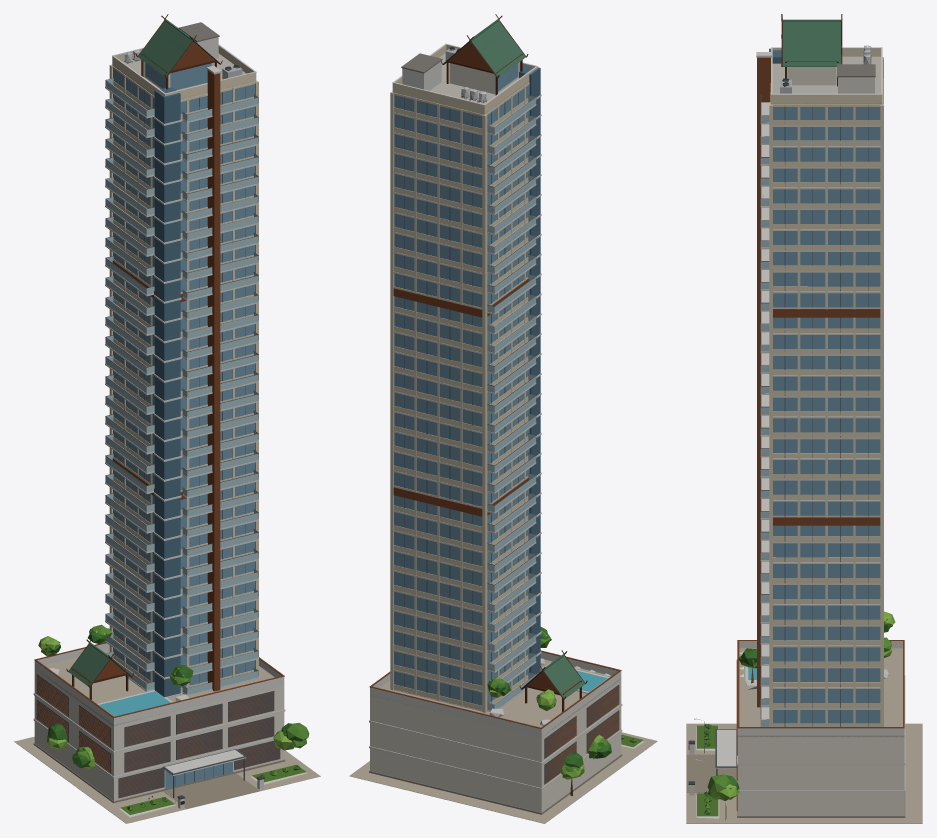
Rendered from home_5.glb.
3 views of the same model, side by side, from view 1: azimuth 30°, elevation 25°; view 2: azimuth 150°, elevation 25°; view 3: azimuth 270°, elevation 25° (orthographic). The views are drawn at different scales.
Parts seen in each view (by area): view 1: body; view 2: body; view 3: body.
Boxes of the visible parts, x1,y1,x2,y2 form: body: (14, 14, 320, 823); body: (349, 14, 657, 823); body: (686, 14, 922, 823).
Bounding box in the file's own units: 33.07 × 114 × 31.9.
